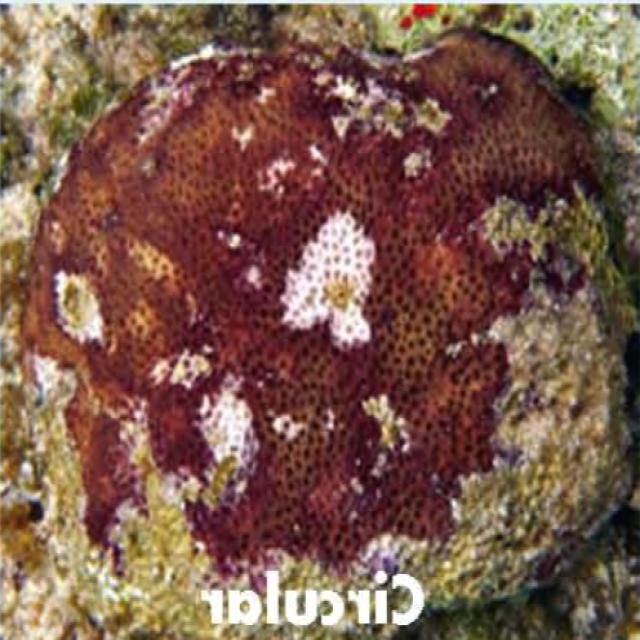Coral: (20, 25, 640, 640)
